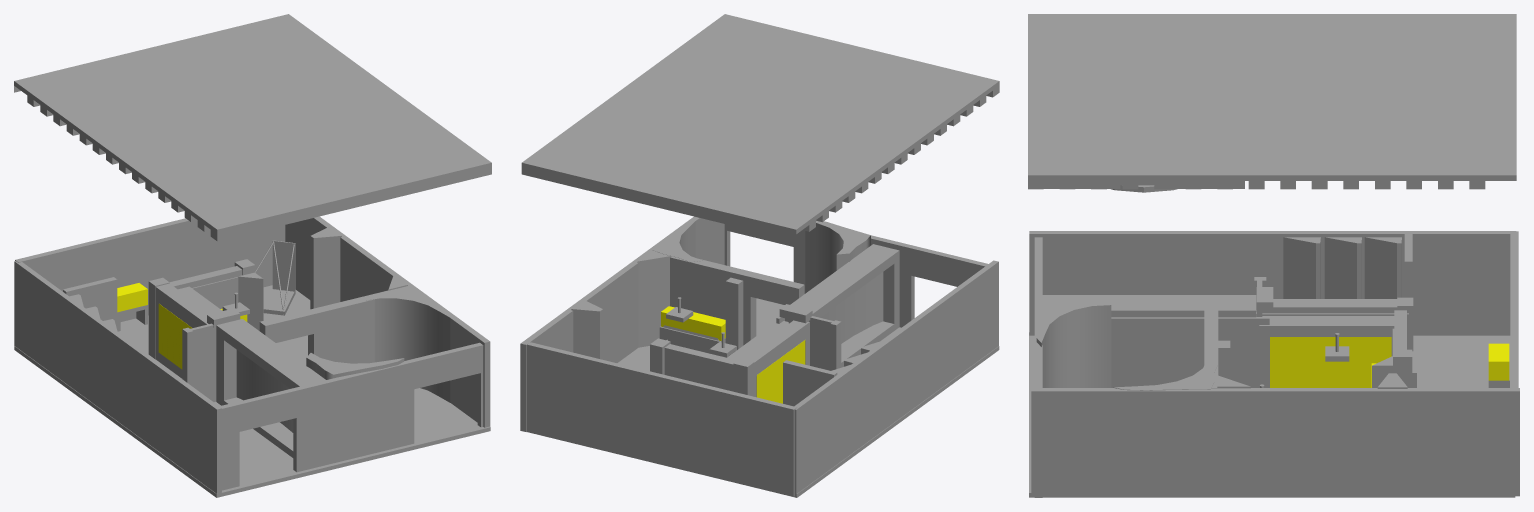
The picture shows the model from 3 angles, left to right: view 1: azimuth 30°, elevation 25°; view 2: azimuth 150°, elevation 25°; view 3: azimuth 270°, elevation 25°; orthographic projection. The views are drawn at different scales.
Visible parts, largest first — view 1: pCube51, pPlane3, pPlane11, pPlane2, pPlane1, pPlane4, pCylinder2, pPlane7, pCube46, pCube27, pPlane6, pCube34 (+11 smaller); view 2: pCube51, pPlane2, pPlane3, pPlane4, pPlane7, pCube46, pPlane11, pCylinder3, pCube32, pPlane1, pCube31, pCylinder6 (+13 smaller); view 3: pCube51, pPlane4, pPlane3, pPlane10, pCylinder3, pPlane1, pCube53, pCube46, pCube44, pCube28, pCube29, pCube30 (+9 smaller).
Part boxes in pixels (x1,y1,x2,y2): pCube51: (14, 14, 491, 241); pPlane3: (14, 261, 221, 493); pPlane11: (219, 342, 483, 490); pPlane2: (15, 218, 285, 321); pPlane1: (14, 285, 490, 497); pPlane4: (285, 216, 490, 427); pCylinder2: (365, 287, 450, 402); pPlane7: (259, 286, 409, 363); pCube46: (216, 319, 325, 457); pCube27: (310, 226, 341, 309); pPlane6: (155, 283, 210, 378); pCube34: (263, 240, 295, 315); pCube51: (521, 14, 999, 241); pPlane2: (527, 342, 796, 496); pPlane3: (794, 260, 998, 496); pPlane4: (520, 216, 724, 431); pPlane7: (652, 250, 804, 345); pCube46: (785, 244, 899, 367); pPlane11: (724, 224, 988, 327); pCylinder3: (805, 220, 870, 293); pCube32: (637, 251, 670, 347); pPlane1: (527, 298, 999, 497); pCube31: (664, 344, 736, 391); pCylinder6: (820, 272, 883, 343); pCube51: (1028, 14, 1516, 189); pPlane4: (1031, 388, 1519, 496); pPlane3: (1029, 231, 1515, 335); pPlane10: (1111, 317, 1269, 387); pCylinder3: (1036, 300, 1111, 387); pPlane1: (1029, 332, 1515, 497); pCube53: (1270, 337, 1391, 387); pCube46: (1042, 295, 1256, 317); pCube44: (1259, 316, 1394, 387); pCube28: (1283, 237, 1320, 298); pCube29: (1324, 237, 1361, 298); pCube30: (1364, 237, 1401, 298).
Bounding box in the file's own units: 480 × 452 × 619.
